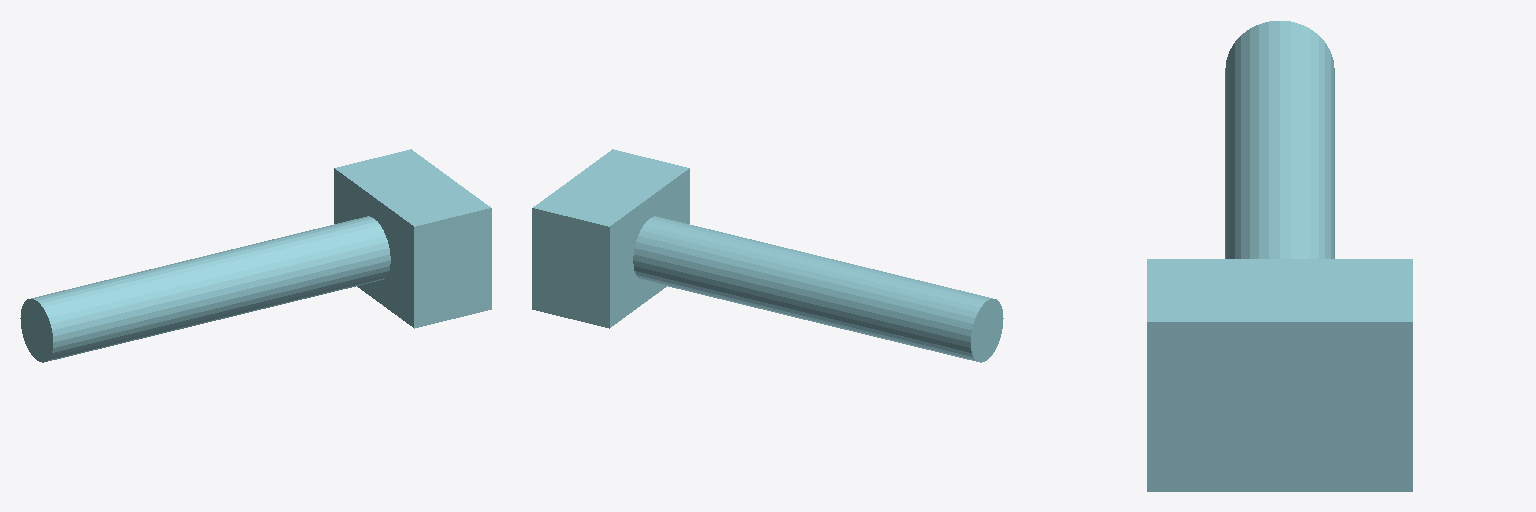
URDF robot description (cylinder_hammer_v1012):
<?xml version="1.0"?>
<robot name="cylinder_hammer_v1012">

  <link name="cylinder_hammer_v1012">
    <!-- Handle -->
    <visual>
      <origin xyz="0 0 0" rpy="0 1.5707963267948966 0"/>
      <geometry>
        <cylinder length="0.18453209863423212" radius="0.015561188342642696"/>
      </geometry>
      <material name="material">
        <color rgba="0.639 0.847 0.882 1.0"/>
      </material>
    </visual>
    <collision>
      <origin xyz="0 0 0" rpy="0 1.5707963267948966 0"/>
      <geometry>
        <cylinder length="0.18453209863423212" radius="0.015561188342642696"/>
      </geometry>
    </collision>

    <!-- Head -->
    <visual>
      <origin xyz="0.11336309870494572 0 0" rpy="0 0 0"/>
      <geometry>
        <box size="0.04219409877565933 0.07596455987037071 0.05319158972529653"/>
      </geometry>
      <material name="material">
        <color rgba="0.639 0.847 0.882 1.0"/>
      </material>
    </visual>
    <collision>
      <origin xyz="0.11336309870494572 0 0" rpy="0 0 0"/>
      <geometry>
        <box size="0.04219409877565933 0.07596455987037071 0.05319158972529653"/>
      </geometry>
    </collision>

    <inertial>
      <density value="400.0"/>
    </inertial>
  </link>

</robot>

--- Facts derived from the render (not from the file) ---
The picture shows the robot from 3 angles, left to right: view 1: azimuth 30°, elevation 25°; view 2: azimuth 150°, elevation 25°; view 3: azimuth 270°, elevation 25°; orthographic projection.
Robot: cylinder_hammer_v1012 — 1 links, 0 joints (none); root link cylinder_hammer_v1012; default pose: every joint at zero.
Links seen in each view (by area): view 1: cylinder_hammer_v1012; view 2: cylinder_hammer_v1012; view 3: cylinder_hammer_v1012.
Link boxes in pixels (x1,y1,x2,y2): cylinder_hammer_v1012: (20,149,491,362); cylinder_hammer_v1012: (532,149,1003,362); cylinder_hammer_v1012: (1147,21,1412,491).
Size in the robot's own frame: 0.2267 by 0.076 by 0.0532 metres.
Geometry: primitives only (box / cylinder / sphere), no mesh files.
